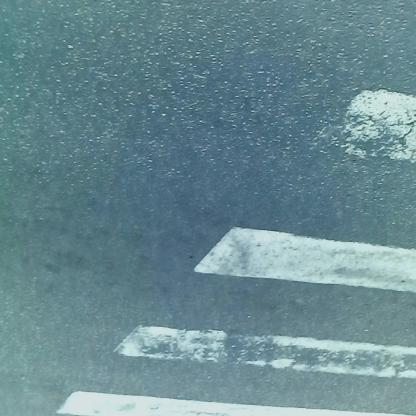crosswalk: (54, 95, 416, 416)
